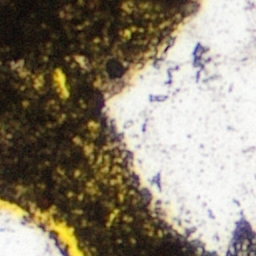cement_matrix: (0, 0, 209, 255), (231, 226, 255, 255), (193, 45, 206, 68), (54, 73, 65, 92)
cracks: (0, 199, 87, 255), (55, 74, 64, 91)
gravel_crushed_stones: (104, 0, 255, 255), (0, 208, 59, 255), (192, 44, 207, 69)
